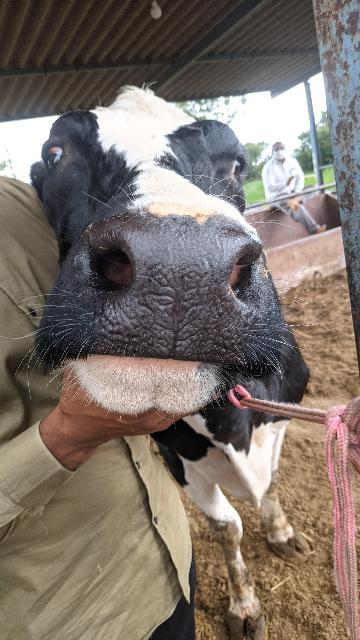Muzzle: (114, 224, 238, 350)
